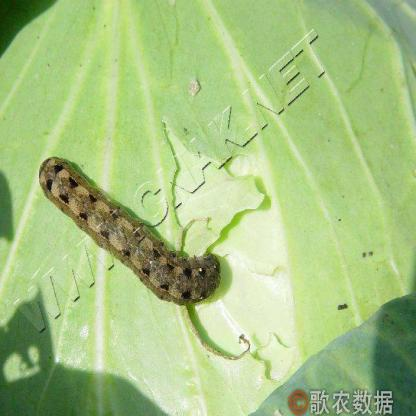armyworm: (39, 149, 224, 304)
